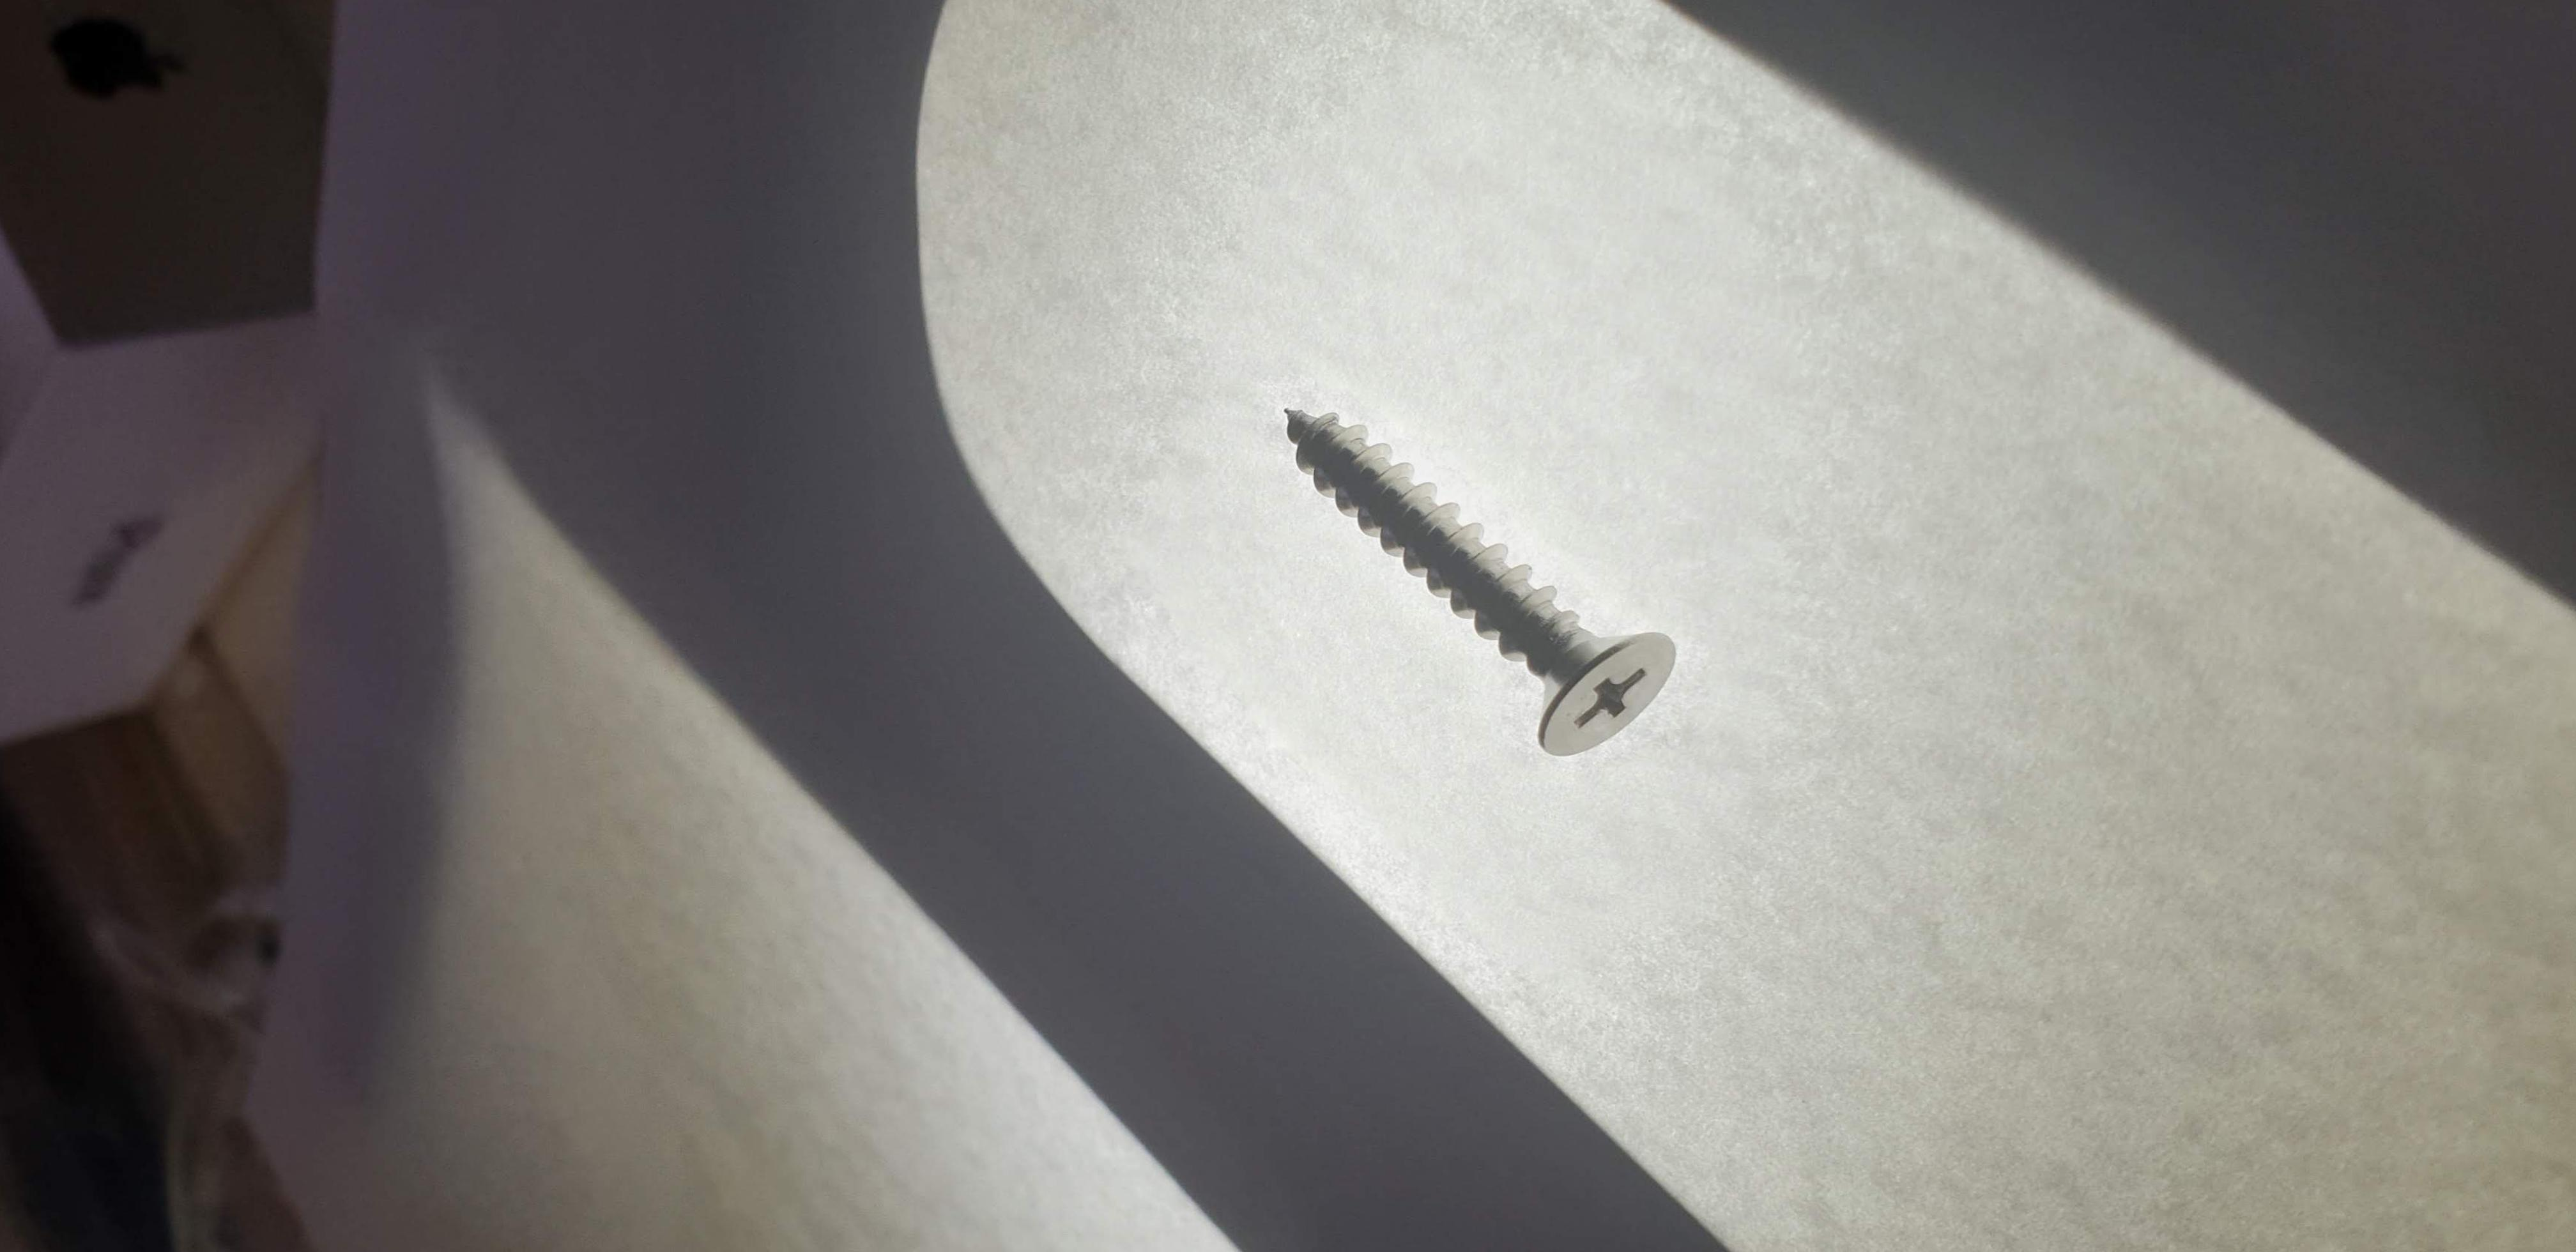S004: (1226, 338, 1801, 820)
